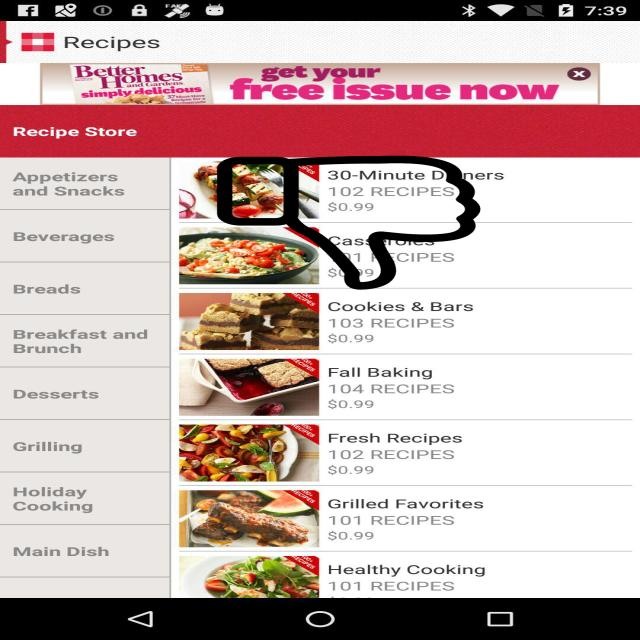obstruction: (213, 156, 484, 290)
